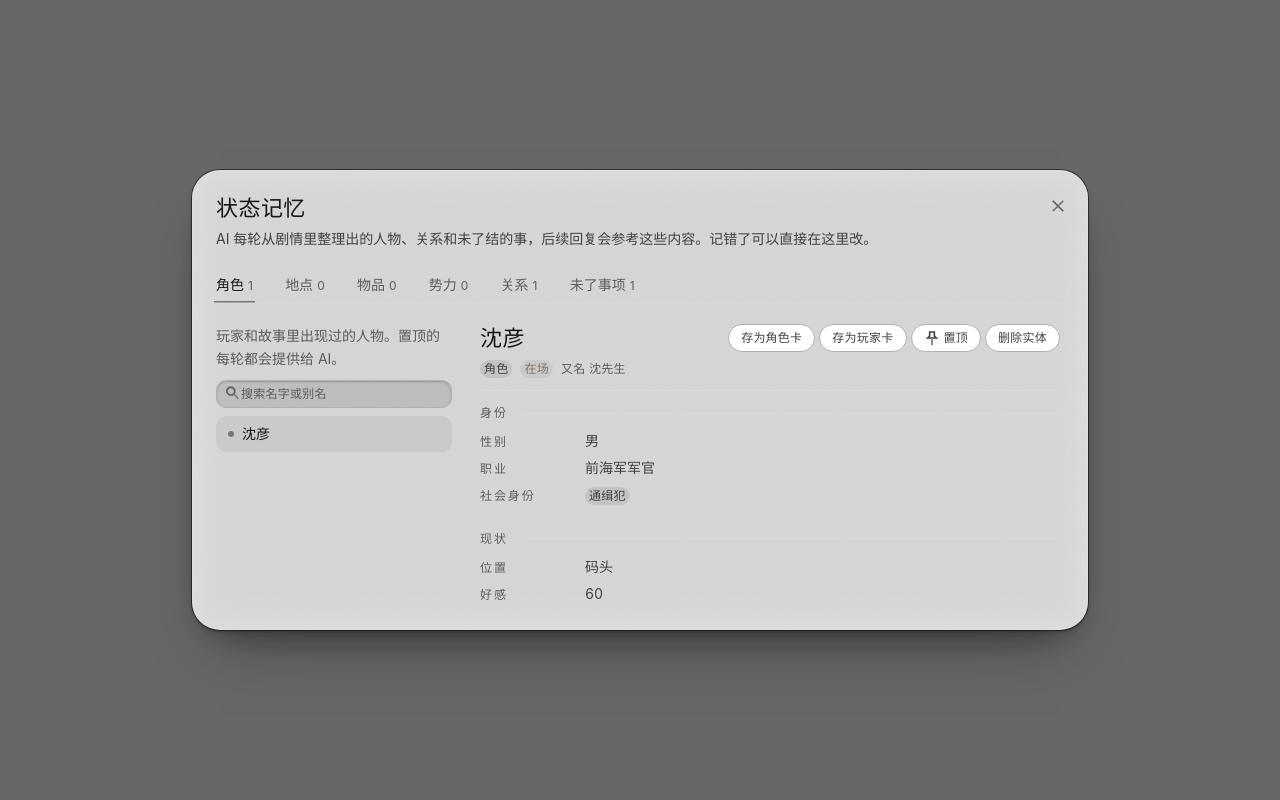
Test case: StateMemoryModal › 角色、地点分在不同页签，已退场实体单独标注
Expected: the field named "搜索实体" is shown, [216,380,452,408]
Expected: the text "沈彦" is shown, [242,425,270,442]
Click the tab "地点0" at (305, 285), box [269,267,341,303]
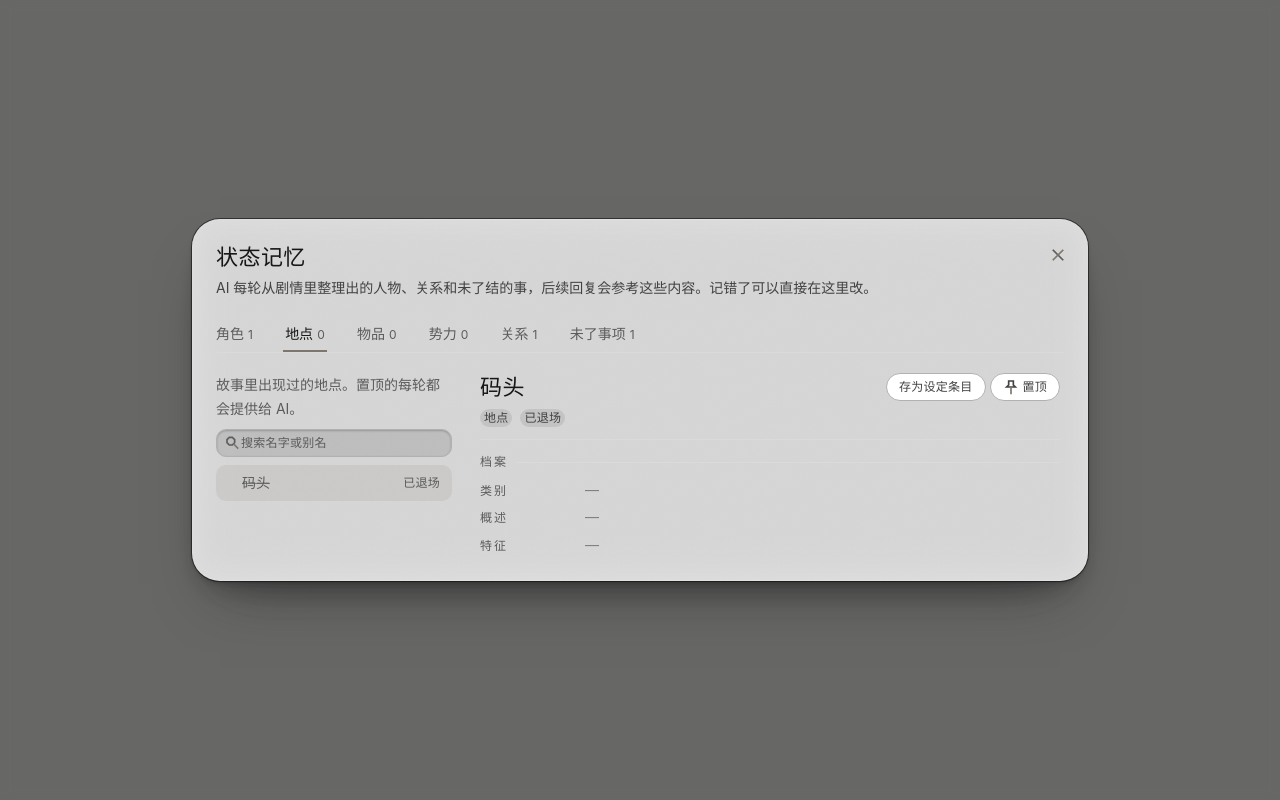
Expected: the text "已退场" below "故事里出现过的地点。置顶的每轮都会提供给 AI。" is shown, [403,475,440,490]
Expected: the button "沈彦" is gone
